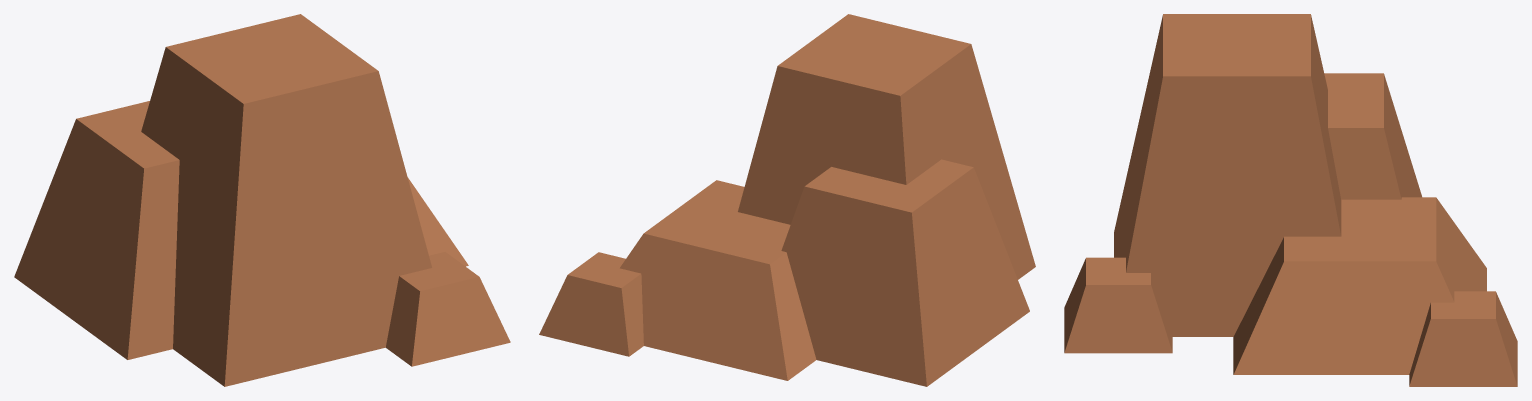
Rendered from rockssmall.glb.
3 renders of one model, left to right at view 1: azimuth 30°, elevation 25°; view 2: azimuth 150°, elevation 25°; view 3: azimuth 270°, elevation 25°, orthographic. The views are drawn at different scales.
Parts seen in each view (by area): view 1: rocksSmall; view 2: rocksSmall; view 3: rocksSmall.
Boxes of the visible parts, x1=… form: rocksSmall: x1=14, y1=14, x2=510, y2=386; rocksSmall: x1=539, y1=14, x2=1035, y2=386; rocksSmall: x1=1064, y1=14, x2=1517, y2=386.
Size of the model in its own units: 6.69 by 4.27 by 7.32.
